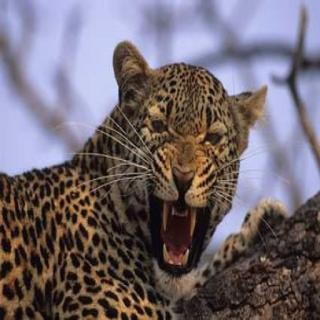Leopard: (0, 34, 285, 320)
